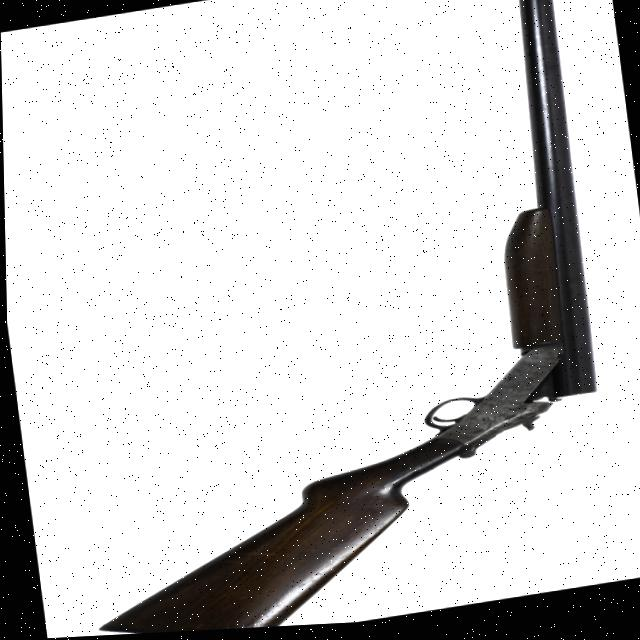firearm: (18, 0, 626, 639)
